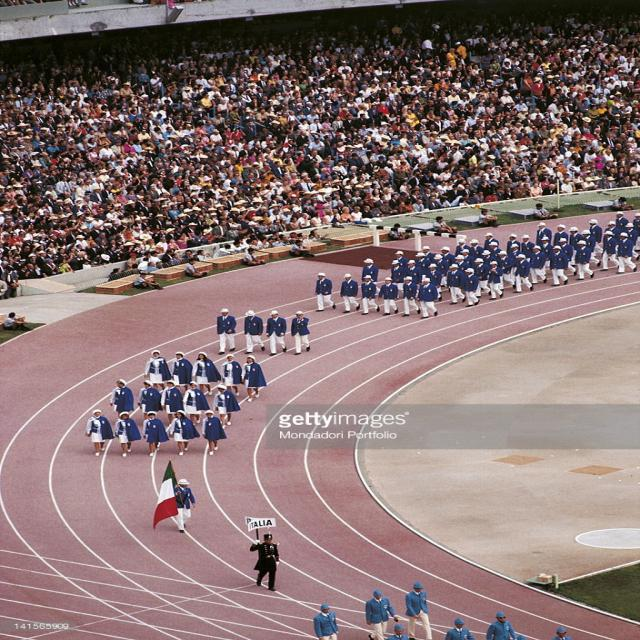body: (0, 0, 640, 189), (130, 190, 350, 272), (0, 189, 129, 300), (350, 189, 556, 222), (247, 532, 282, 592), (403, 580, 435, 640), (364, 589, 400, 640), (164, 408, 201, 456), (84, 408, 115, 457), (239, 353, 270, 402), (190, 350, 223, 396), (112, 410, 143, 458), (141, 409, 171, 457), (172, 478, 197, 534), (182, 380, 212, 426), (199, 408, 227, 456), (142, 349, 173, 392), (213, 384, 242, 429), (159, 378, 186, 426), (218, 353, 246, 398), (136, 378, 163, 421), (242, 309, 267, 354), (614, 231, 639, 275), (108, 378, 136, 417), (266, 309, 289, 356), (484, 610, 520, 640), (545, 244, 570, 287), (313, 603, 342, 640), (288, 310, 311, 356), (215, 307, 237, 355), (416, 276, 439, 320), (312, 270, 336, 312), (446, 262, 468, 306), (512, 252, 535, 294), (376, 276, 400, 316), (170, 350, 195, 388), (400, 275, 422, 318), (340, 272, 362, 314), (359, 274, 381, 316), (598, 230, 620, 271), (461, 266, 482, 308), (497, 248, 518, 290), (556, 237, 578, 277), (472, 257, 493, 298), (527, 243, 548, 284), (574, 240, 594, 282), (566, 224, 586, 266), (360, 258, 382, 296), (443, 616, 476, 640), (486, 260, 504, 302), (131, 271, 164, 291), (508, 242, 526, 276), (1, 311, 30, 332), (468, 238, 487, 270), (404, 258, 424, 286), (430, 253, 451, 278), (588, 218, 603, 253), (531, 202, 560, 220), (183, 258, 206, 280), (432, 216, 460, 234), (290, 239, 315, 259), (423, 263, 442, 289), (389, 259, 409, 283), (477, 209, 501, 229), (384, 622, 412, 639), (535, 222, 553, 248), (539, 236, 554, 266), (602, 220, 624, 240), (243, 247, 265, 267), (611, 196, 636, 212), (504, 233, 522, 255), (580, 229, 596, 253), (549, 626, 576, 640), (628, 222, 640, 253), (553, 224, 569, 247), (459, 248, 476, 269), (413, 252, 432, 270), (453, 254, 471, 272), (439, 246, 457, 264), (454, 238, 472, 256), (393, 250, 410, 269), (520, 234, 535, 254), (420, 245, 436, 263), (483, 232, 499, 249), (487, 240, 504, 256), (614, 210, 629, 228), (388, 223, 402, 238), (481, 249, 496, 262), (632, 212, 640, 228), (517, 634, 529, 639)
